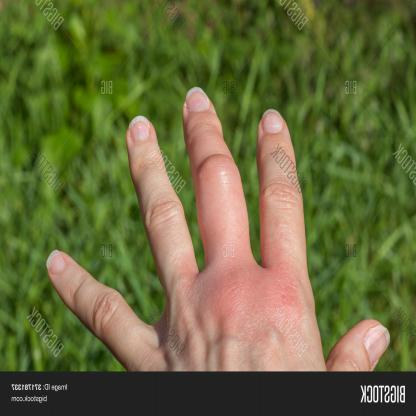Wasp: (197, 264, 308, 342), (195, 136, 241, 244)
